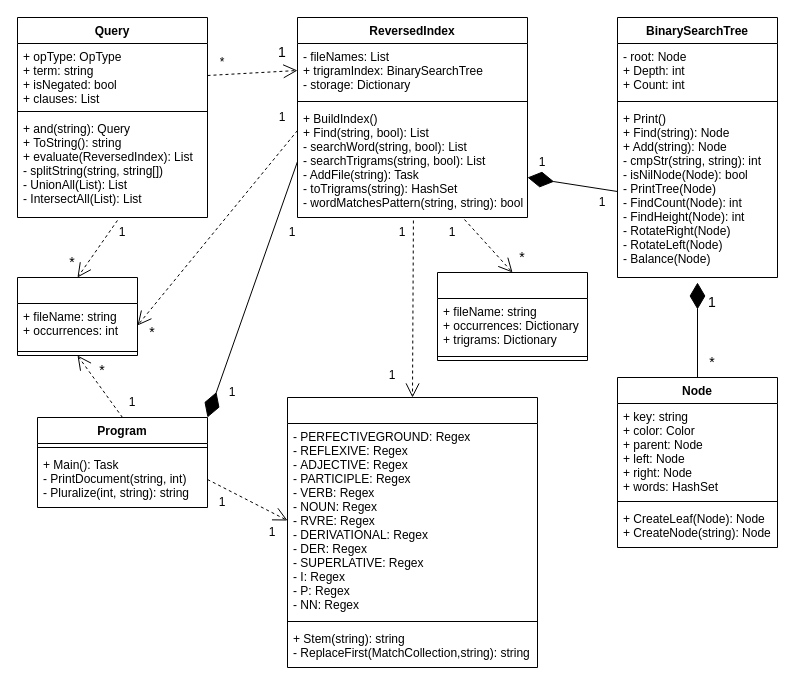
Image size: 795x688. Some labels were removed from this diagram. The shapes that lost their labels are listed below. From the top down, each one's box as (x1, y1, x2, y2) in pixels, then its label:
(16, 276, 138, 356): SearchResult
(436, 272, 588, 360): IndexResult
(286, 396, 538, 668): Porter
